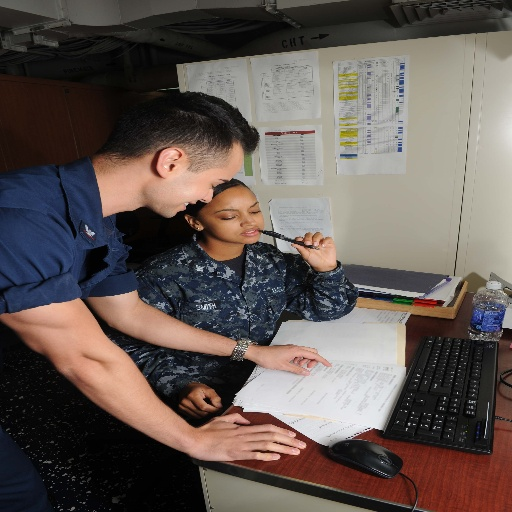hand: (196, 412, 305, 461), (250, 343, 331, 376), (176, 380, 222, 421), (291, 232, 337, 269)
